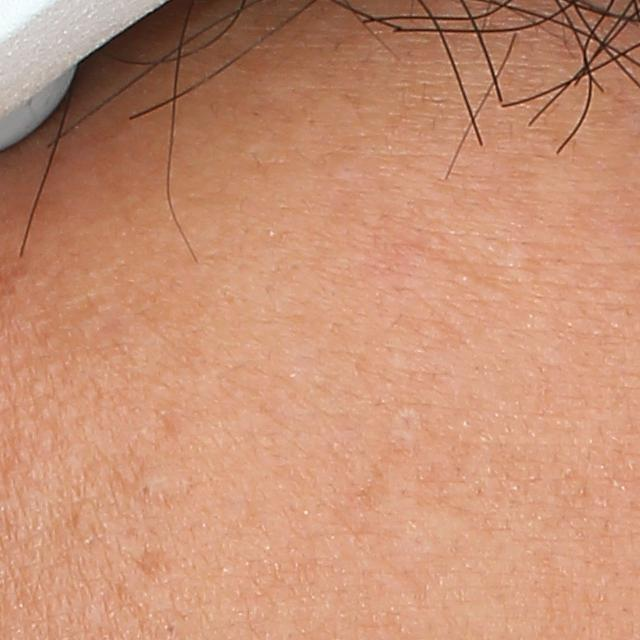comedo: (132, 476, 162, 503)
